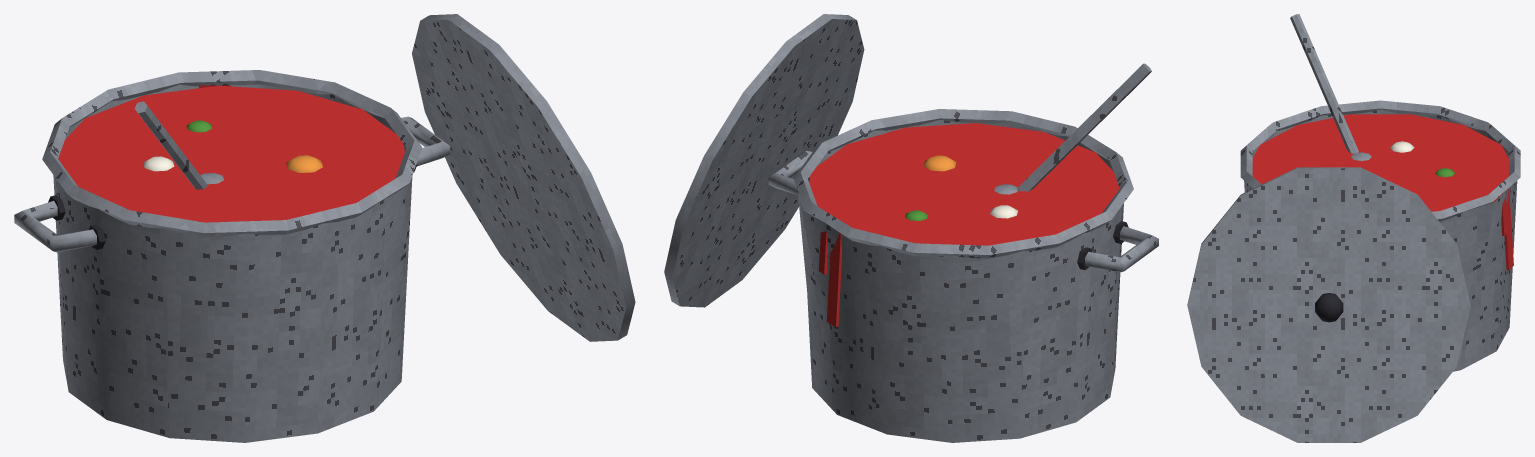
The model's file is s_soup_pot.glb.
3 renders of one model, left to right at view 1: azimuth 30°, elevation 25°; view 2: azimuth 150°, elevation 25°; view 3: azimuth 270°, elevation 25°, orthographic. The views are drawn at different scales.
Parts seen in each view (by area): view 1: s_soup_pot_mesh; view 2: s_soup_pot_mesh; view 3: s_soup_pot_mesh.
Boxes of the visible parts, x1,y1,x2,y2 form: s_soup_pot_mesh: (14, 14, 635, 442); s_soup_pot_mesh: (664, 14, 1158, 442); s_soup_pot_mesh: (1187, 14, 1520, 442).
Size of what is drawn, in the model's own units: 1.03 by 0.6768 by 0.7756.
6 materials, 6 textured.
